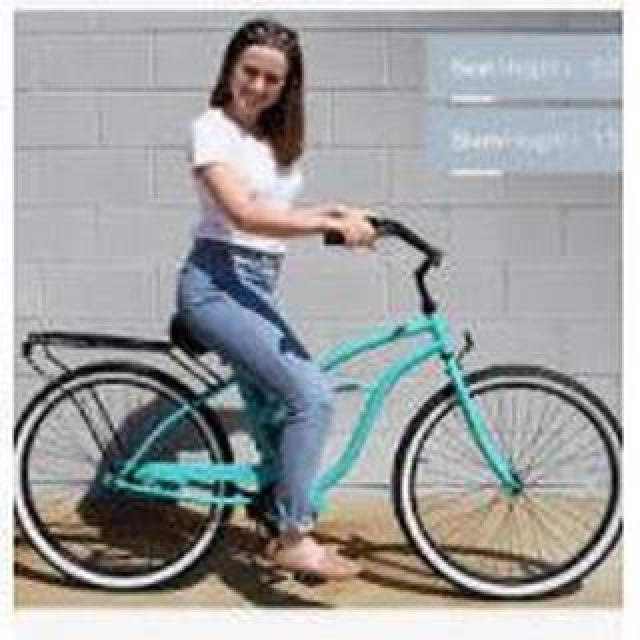MC-Bike: (162, 18, 386, 570)
Person: (14, 216, 622, 608)
